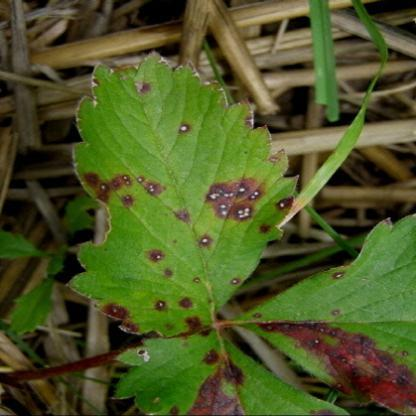Strawberry_Leaf_Spot: (64, 49, 300, 340), (232, 214, 415, 414), (110, 327, 352, 415)
